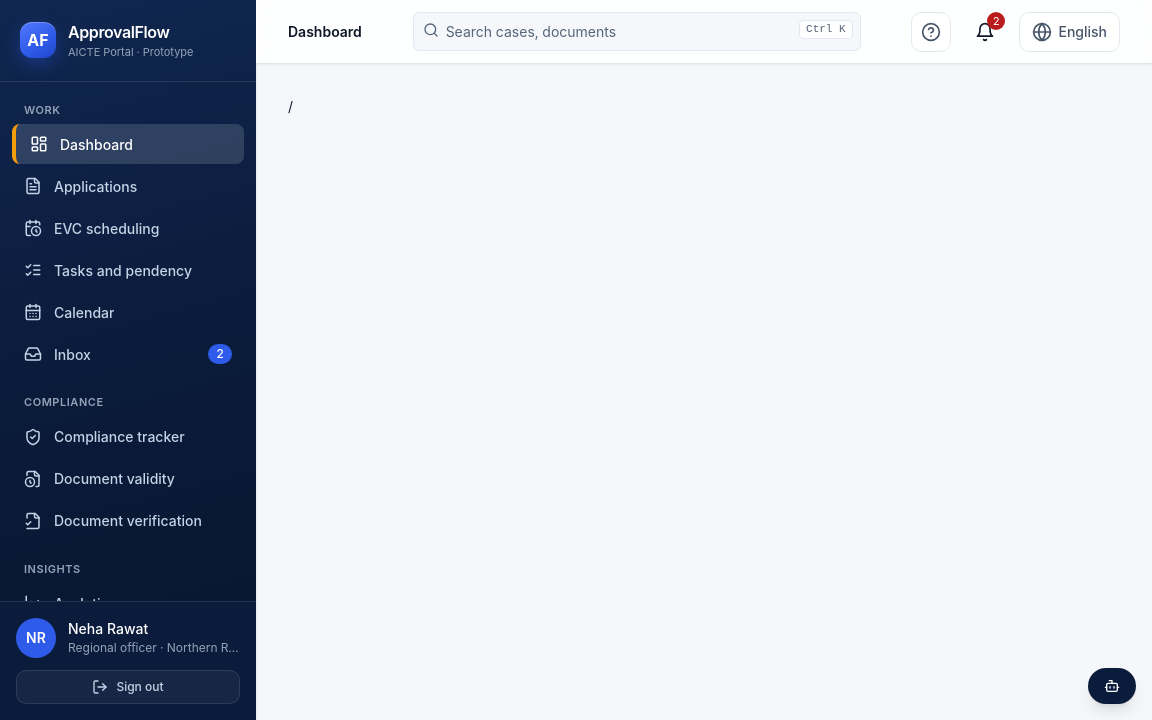
application shell › searches as a combobox, groups results, supports the keyboard, and shows recents and quick actions when empty
Click the dropdown at x=637, y=32, box x1=413 y1=12 x2=861 y2=51
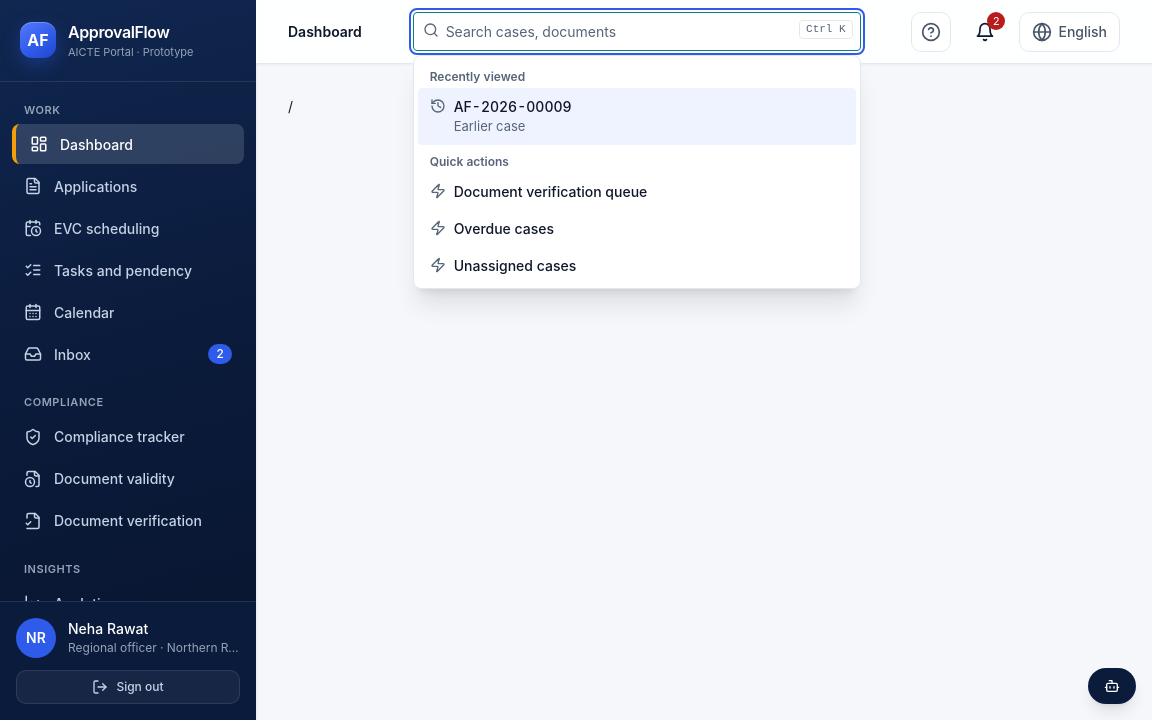
Expected: the text "AF-2026-00009" is shown, x1=454 y1=96 x2=572 y2=117
Expected: the text "Document verification queue" is shown, x1=454 y1=180 x2=647 y2=202
Type "lease" into the dropdown with placeholder "Search cases, documents" at x=637, y=32, box x1=413 y1=12 x2=861 y2=51
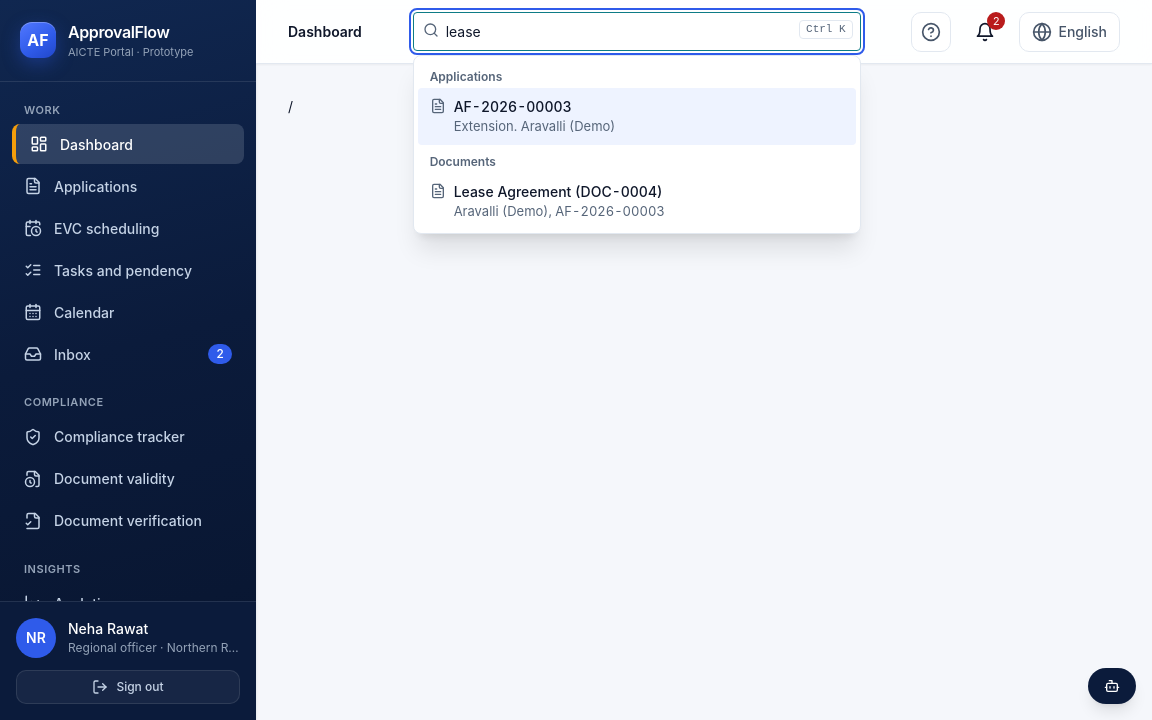
Expected: the option "Lease Agreement (DOC-0004) Aravalli (Demo), AF-2026-00003" is shown, x1=430 y1=182 x2=665 y2=218
Expected: the element "Documents" is shown, x1=430 y1=154 x2=665 y2=218
Press Arrowdown Enter
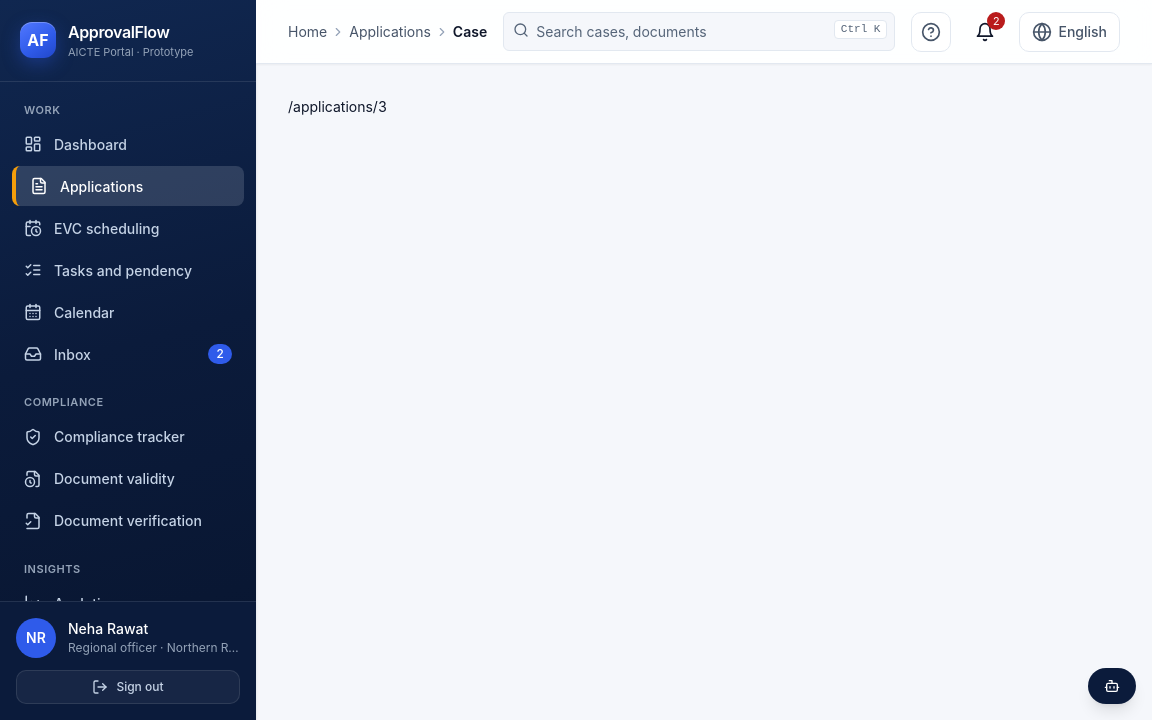
Expected: the text with test id "where" reads "/applications/3", x1=288 y1=98 x2=387 y2=115
